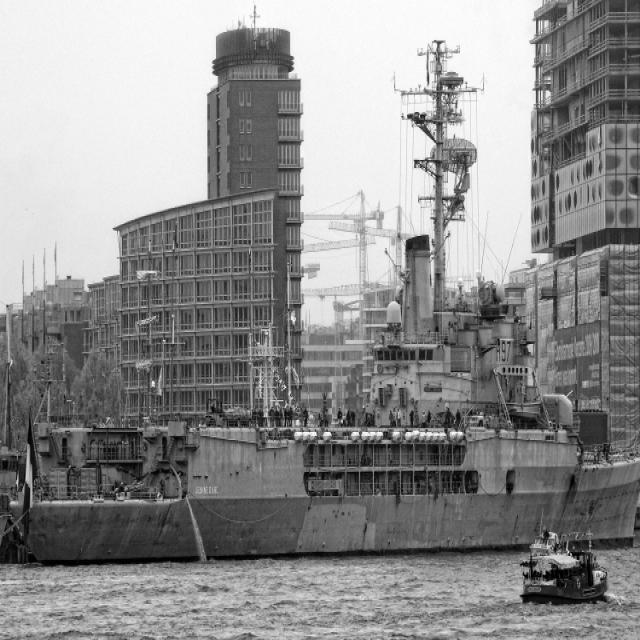Portanaves: (5, 225, 640, 573)
